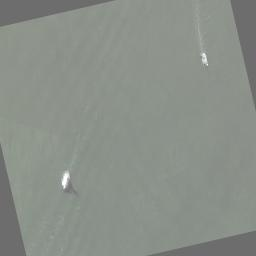boat: (59, 170, 73, 192), (200, 52, 208, 69)
